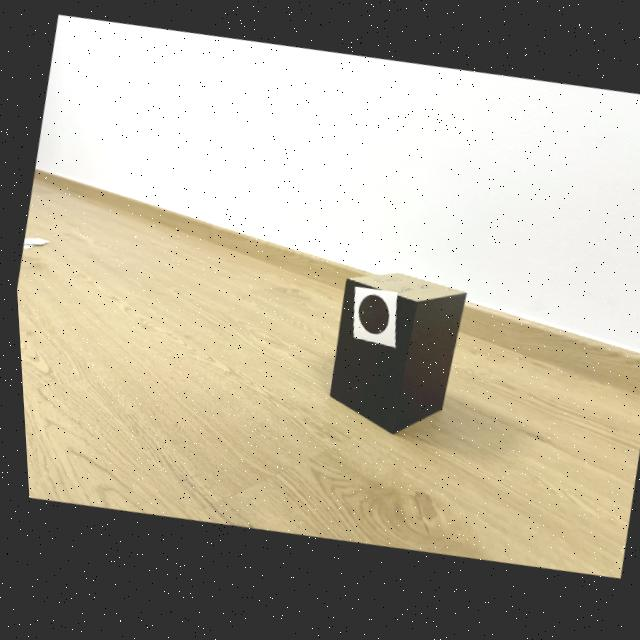CIRCLE: (354, 300, 385, 340)
